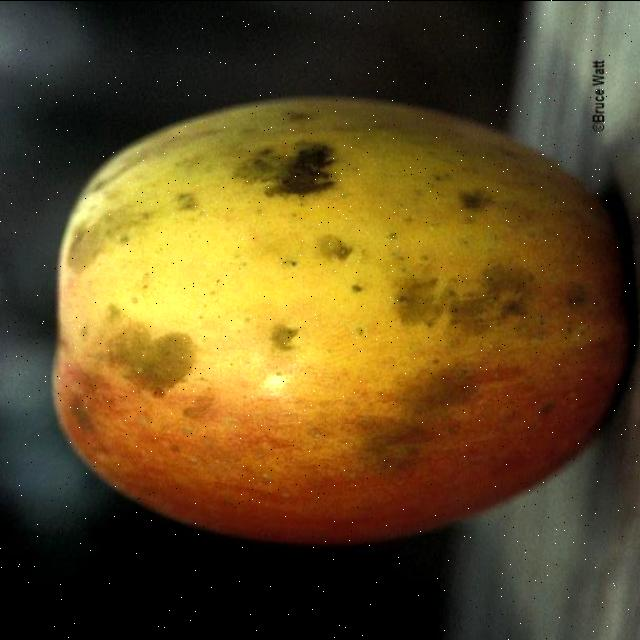BLOTCH: (25, 70, 619, 568)
